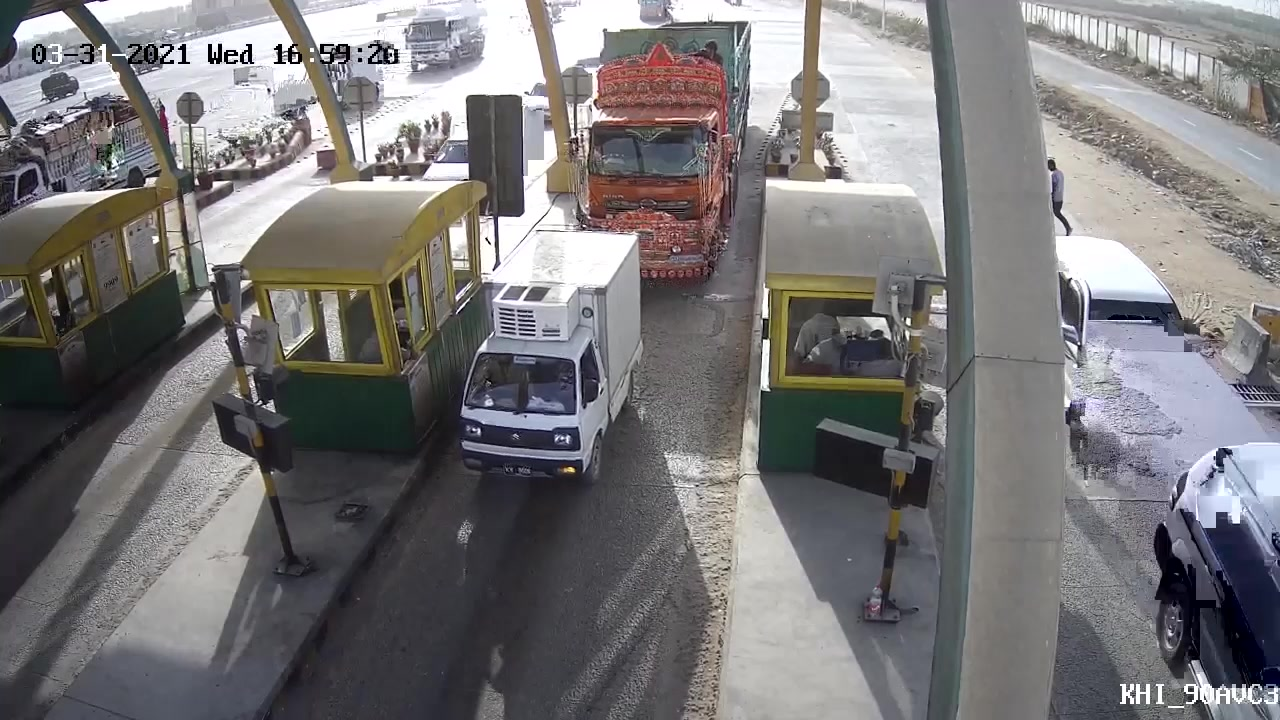F1: (457, 231, 644, 487)
F5: (572, 19, 752, 289)
